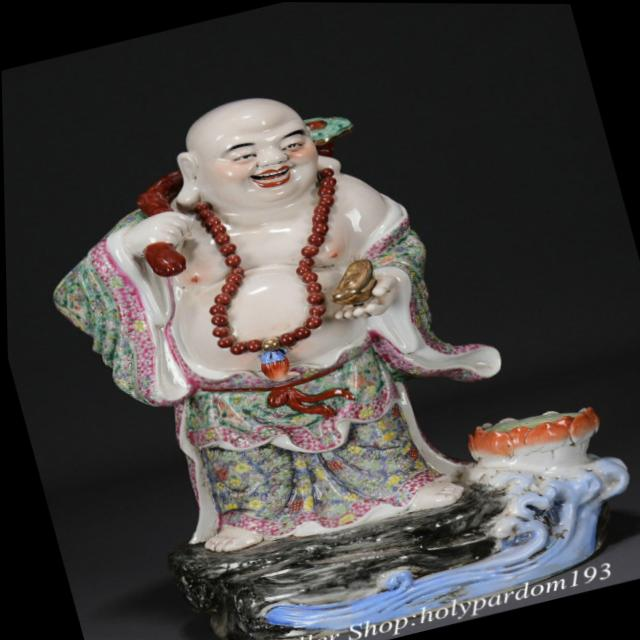Smiling Buddha: (48, 51, 482, 492)
